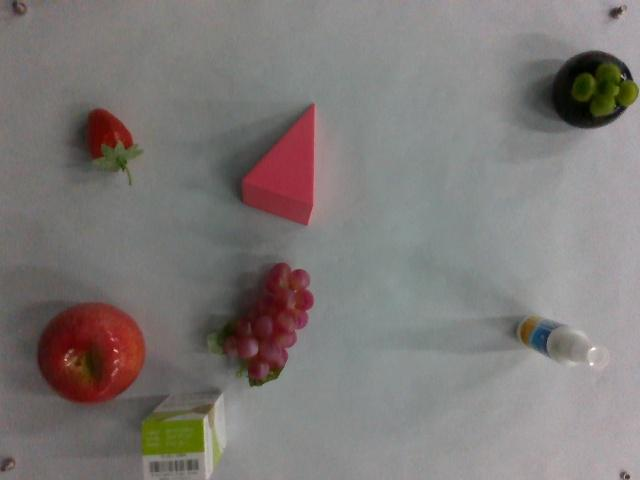apple: (37, 299, 146, 403)
carton: (139, 386, 233, 479)
detergent: (512, 305, 610, 373)
grape: (213, 261, 315, 383)
mangosteen: (557, 46, 634, 133)
pyramid: (236, 100, 322, 224)
strawberry: (80, 104, 143, 188)
